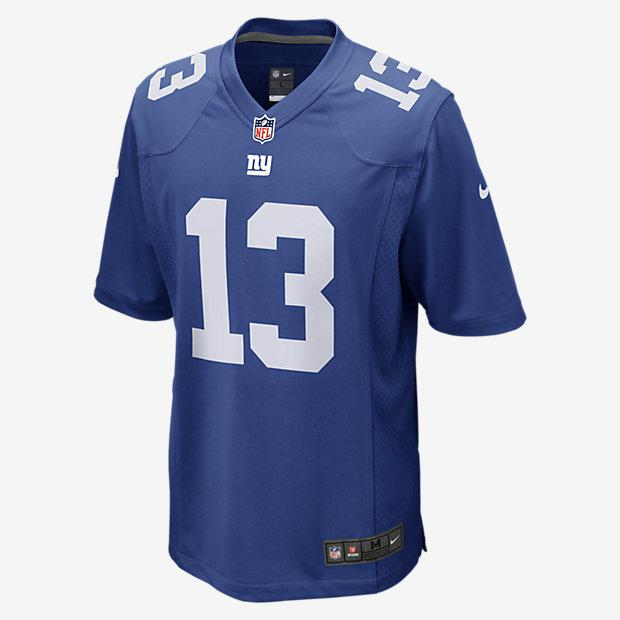teeshirt: (83, 13, 516, 620)
